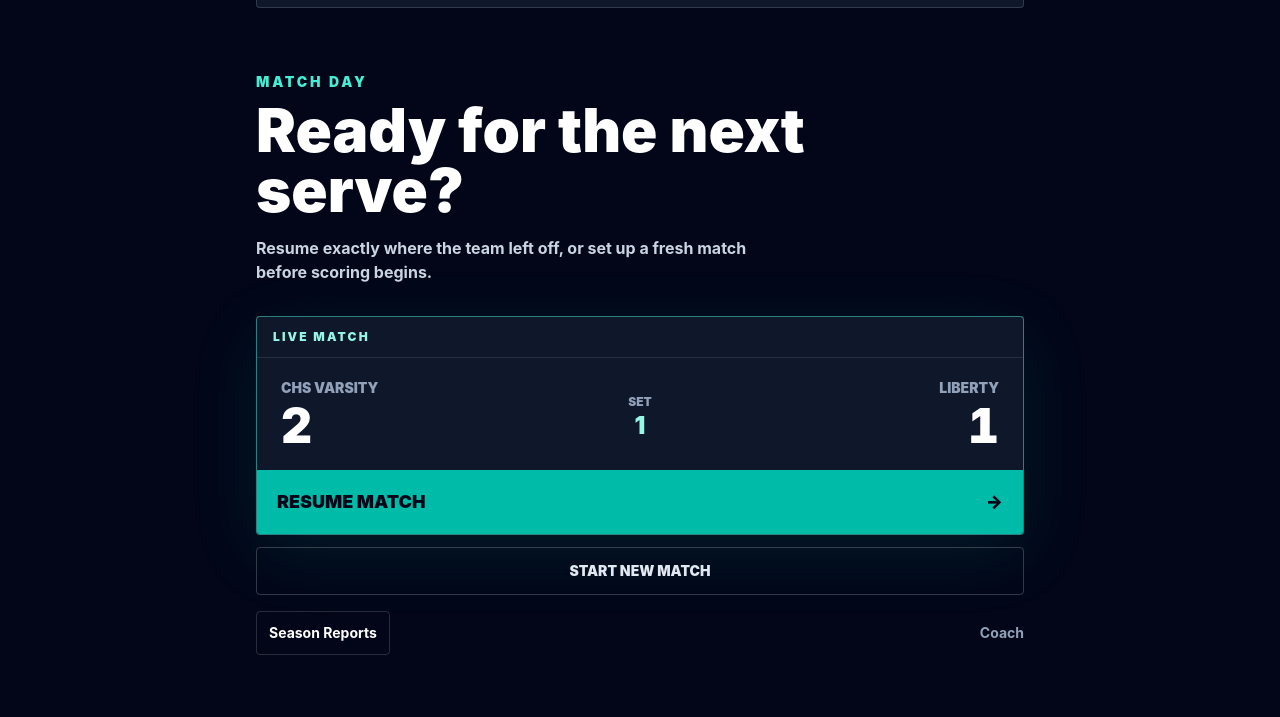
Test: CourtsideMatchbook match launch flow › manually ends an active match after review and includes the current set once
(page scrolled)
Click the button "Resume Match →" at (351, 502), box top-left (257, 470), bottom-right (1023, 534)
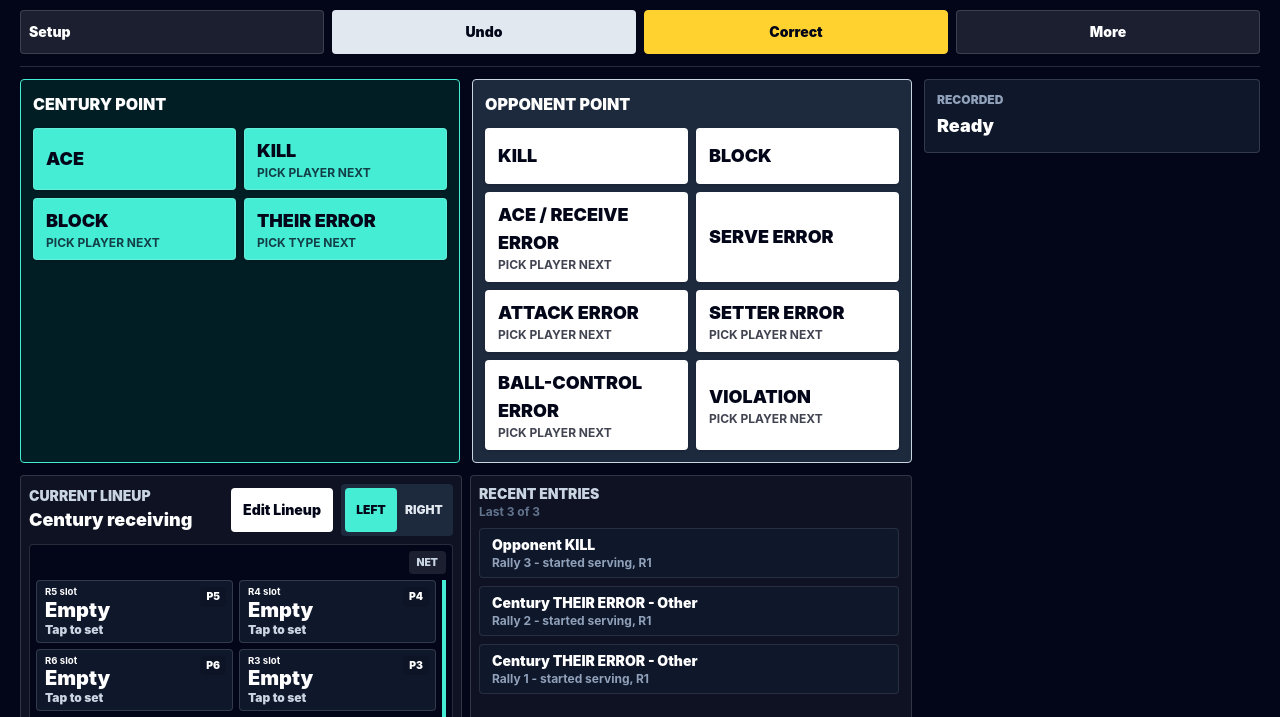
Click the button "More" at (1108, 32), box top-left (956, 10), bottom-right (1260, 54)
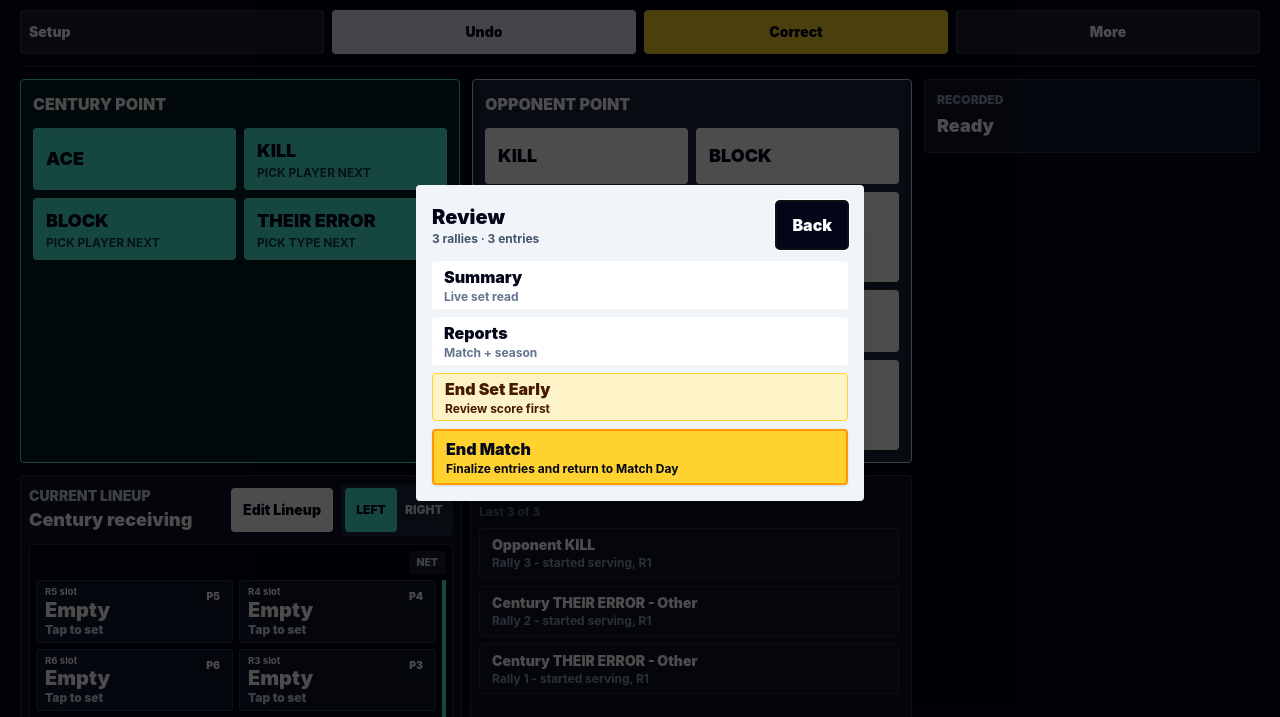
Click the button named "End MatchFinalize entries" at (488, 449), box top-left (432, 429), bottom-right (848, 485)
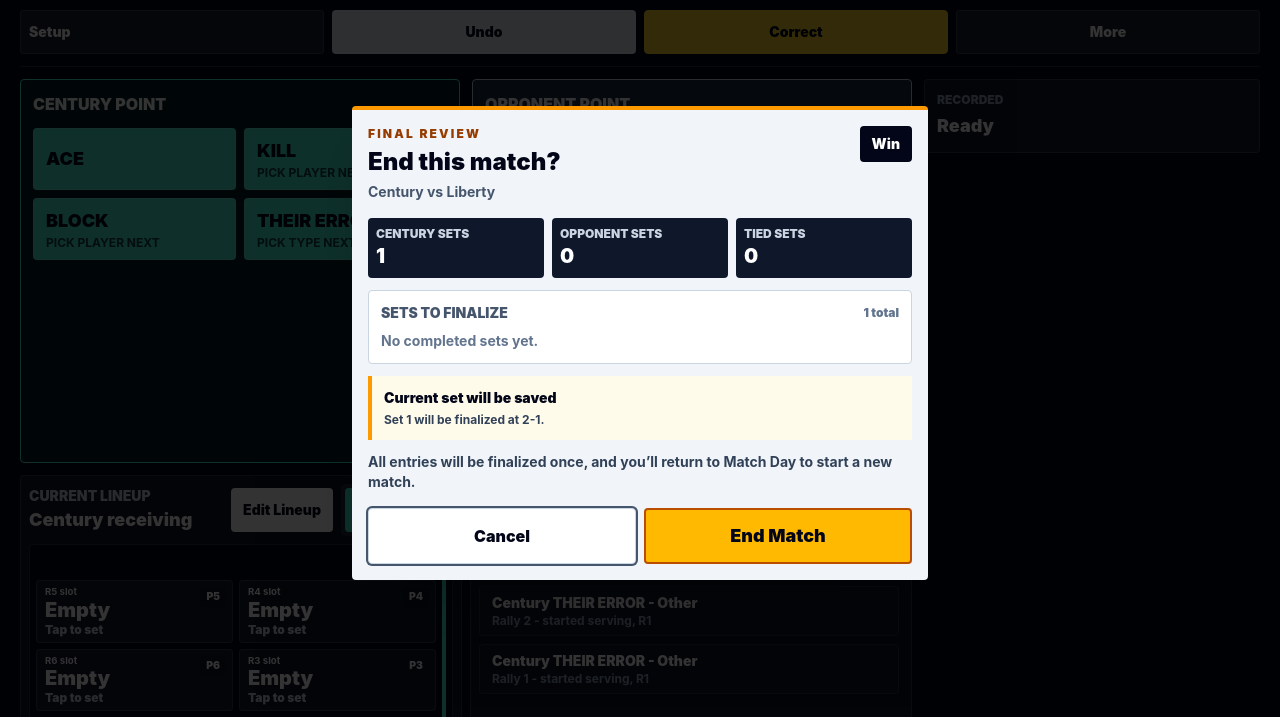
Check: the text "Current set will be saved" is shown, box top-left (384, 389), bottom-right (557, 406)
Check: the text "Set 1 will be finalized at 2-1." is shown, box top-left (384, 412), bottom-right (544, 427)
Click the button "End Match" at (778, 536), box top-left (644, 508), bottom-right (912, 564)
(page scrolled)
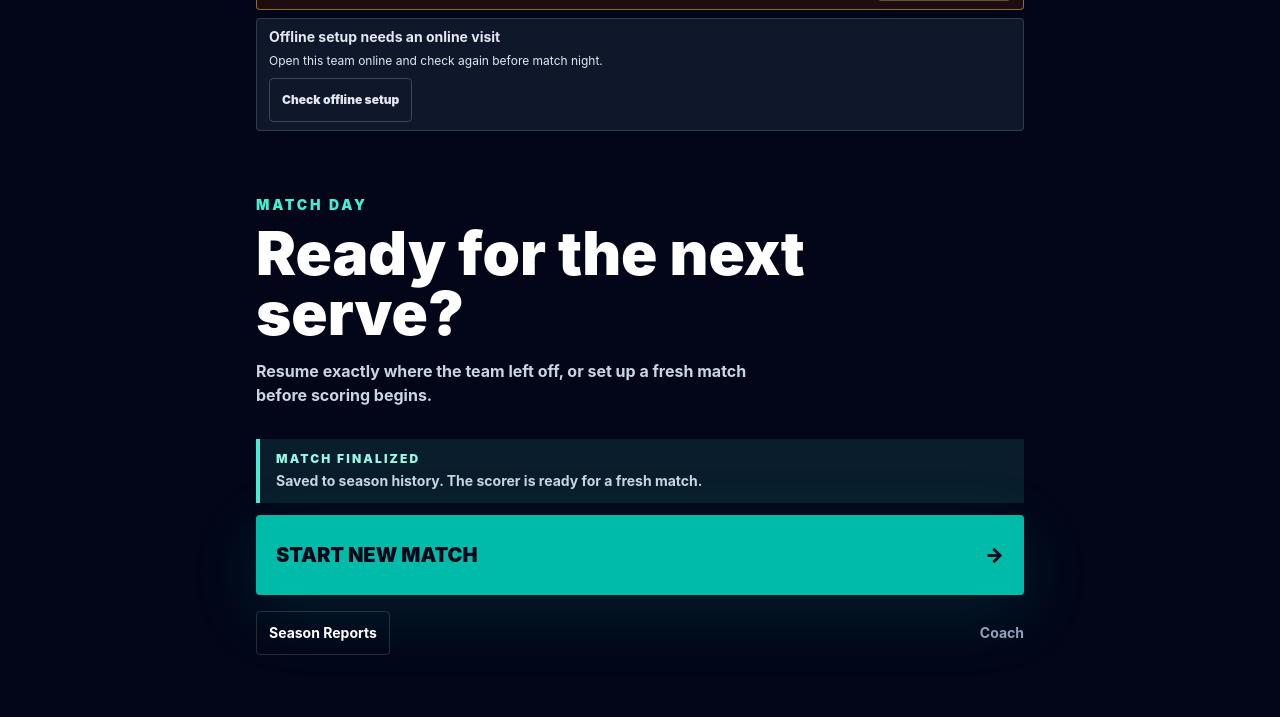
Check: the heading "Ready for the next serve?" is shown, box top-left (256, 223), bottom-right (832, 343)
